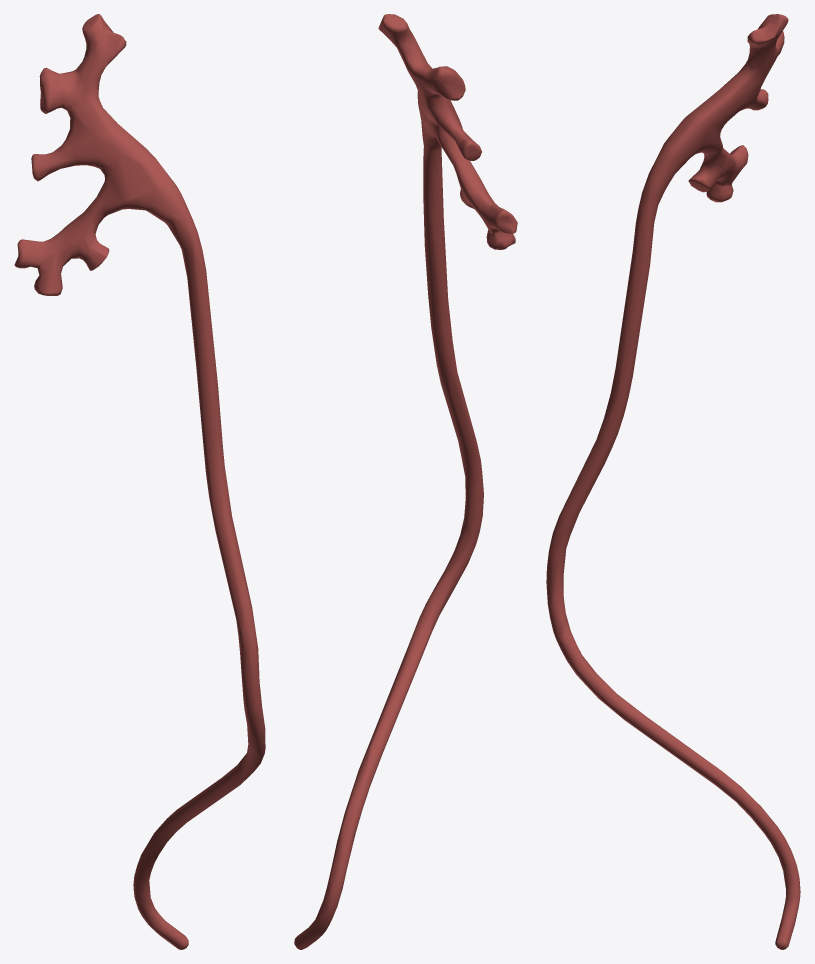
File: FMA15571.glb
3 renders of one model, left to right at view 1: azimuth 30°, elevation 25°; view 2: azimuth 150°, elevation 25°; view 3: azimuth 270°, elevation 25°, orthographic. The views are drawn at different scales.
Visible parts, largest first — view 1: FMA15571; view 2: FMA15571; view 3: FMA15571.
Boxes of the visible parts, x1,y1,x2,y2 form: FMA15571: (14, 14, 265, 949); FMA15571: (294, 14, 517, 949); FMA15571: (546, 14, 800, 949).
Size of the model in its own units: 0.0596 by 0.2771 by 0.0712.
